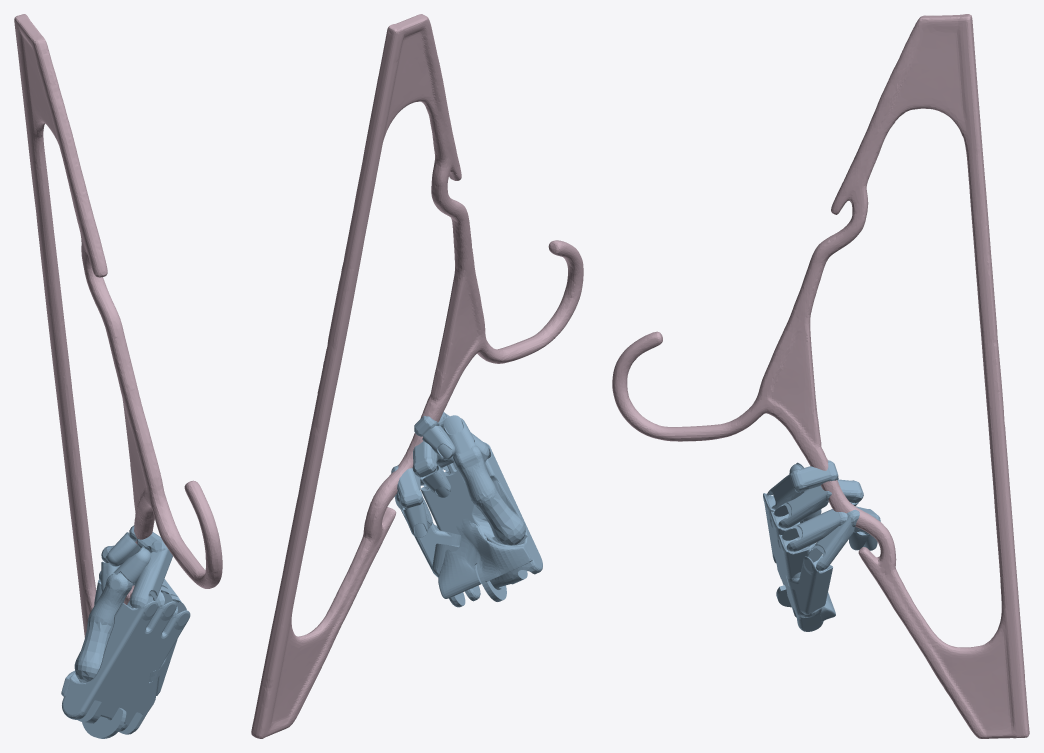
The picture shows the model from 3 angles, left to right: view 1: azimuth 30°, elevation 25°; view 2: azimuth 150°, elevation 25°; view 3: azimuth 270°, elevation 25°; orthographic projection. The views are drawn at different scales.
Visible parts, largest first — view 1: obj_mesh_grasp_5.obj, world; view 2: obj_mesh_grasp_5.obj, world; view 3: obj_mesh_grasp_5.obj, world.
Boxes of the visible parts, box(x1,y1,x2,y2) form: obj_mesh_grasp_5.obj: box(14, 14, 222, 637); world: box(61, 525, 190, 738); obj_mesh_grasp_5.obj: box(251, 14, 583, 738); world: box(391, 412, 542, 607); obj_mesh_grasp_5.obj: box(612, 14, 1029, 738); world: box(763, 460, 880, 631).
Size of the model in its own units: 0.1493 by 0.6253 by 0.3492.
